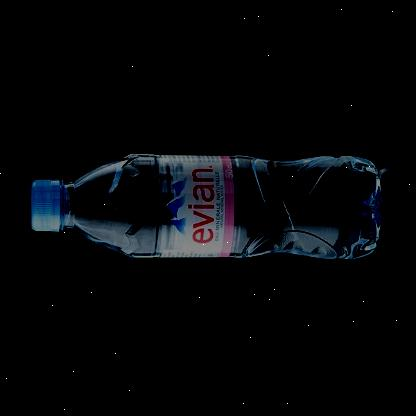Plastic Bottle: (30, 153, 382, 259)
